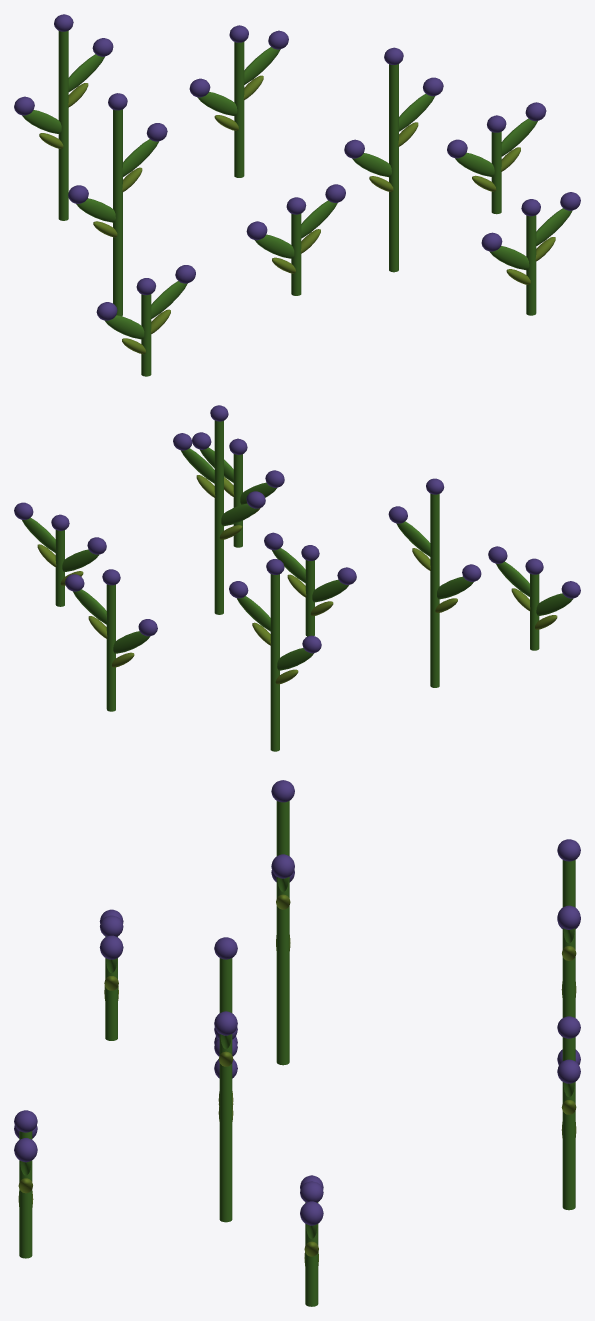
File: CMU3DRMCGrassc2.glb
3 renders of one model, top to bottom at view 1: azimuth 30°, elevation 25°; view 2: azimuth 150°, elevation 25°; view 3: azimuth 270°, elevation 25°, orthographic. The views are drawn at different scales.
Parts seen in each view (by area): view 1: flower stalk 3, flower stalk 0, flower stalk 2, flower stalk 1, flower stalk 7, flower stalk 6, flower stalk 4, flower stalk 5, flower stalk 0 diagonal branch 1, flower stalk 2 diagonal branch 1, flower stalk 4 diagonal branch 1, flower stalk 6 diagonal branch 1 (+12 smaller); view 2: flower stalk 3, flower stalk 2, flower stalk 0, flower stalk 1, flower stalk 4, flower stalk 5, flower stalk 6, flower stalk 7, flower stalk 2 diagonal branch 1, flower stalk 4 diagonal branch 1, flower stalk 5 diagonal branch 1, flower stalk 0 diagonal branch 1 (+10 smaller); view 3: flower stalk 2, flower stalk 3, flower stalk 1, flower stalk 0, flower stalk 7, flower stalk 4, flower stalk 5.
Part boxes in pixels (x1=…): flower stalk 3: x1=389, y1=64, x2=398, y2=272; flower stalk 0: x1=58, y1=30, x2=68, y2=220; flower stalk 2: x1=113, y1=109, x2=122, y2=316; flower stalk 1: x1=234, y1=42, x2=244, y2=177; flower stalk 7: x1=526, y1=215, x2=536, y2=315; flower stalk 6: x1=291, y1=213, x2=301, y2=295; flower stalk 4: x1=491, y1=131, x2=501, y2=214; flower stalk 5: x1=141, y1=294, x2=151, y2=376; flower stalk 0 diagonal branch 1: x1=68, y1=54, x2=104, y2=91; flower stalk 2 diagonal branch 1: x1=122, y1=139, x2=158, y2=176; flower stalk 4 diagonal branch 1: x1=501, y1=118, x2=537, y2=156; flower stalk 6 diagonal branch 1: x1=301, y1=200, x2=337, y2=238; flower stalk 3: x1=214, y1=420, x2=223, y2=614; flower stalk 2: x1=430, y1=493, x2=439, y2=687; flower stalk 0: x1=270, y1=574, x2=279, y2=751; flower stalk 1: x1=106, y1=584, x2=115, y2=711; flower stalk 4: x1=55, y1=530, x2=64, y2=606; flower stalk 5: x1=530, y1=574, x2=539, y2=650; flower stalk 6: x1=305, y1=560, x2=314, y2=636; flower stalk 7: x1=233, y1=454, x2=242, y2=547; flower stalk 2 diagonal branch 1: x1=396, y1=521, x2=430, y2=556; flower stalk 4 diagonal branch 1: x1=22, y1=517, x2=55, y2=552; flower stalk 5 diagonal branch 1: x1=496, y1=561, x2=529, y2=596; flower stalk 0 diagonal branch 1: x1=237, y1=596, x2=270, y2=631; flower stalk 2: x1=276, y1=801, x2=289, y2=1065; flower stalk 3: x1=219, y1=958, x2=232, y2=1222; flower stalk 1: x1=562, y1=1037, x2=575, y2=1210; flower stalk 0: x1=562, y1=860, x2=575, y2=1017; flower stalk 7: x1=19, y1=1131, x2=32, y2=1258; flower stalk 4: x1=305, y1=1202, x2=318, y2=1306; flower stalk 5: x1=105, y1=936, x2=117, y2=1040.
Size of the model in its own units: 0.8435 by 0.339 by 0.6198.
